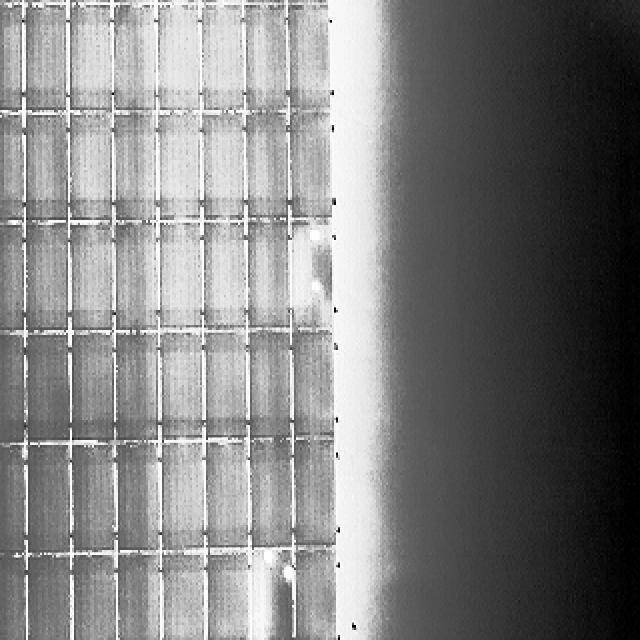Hotspots: (301, 221, 328, 248), (256, 549, 276, 565), (282, 565, 297, 585), (309, 276, 322, 294)
PV-modules: (198, 6, 247, 116), (69, 443, 117, 554), (110, 330, 158, 440), (111, 443, 158, 555), (162, 441, 208, 554), (28, 332, 75, 442), (26, 444, 73, 554), (159, 332, 206, 442), (200, 115, 246, 224), (202, 441, 248, 550), (246, 440, 291, 551), (25, 7, 72, 113), (68, 224, 114, 332), (112, 116, 158, 224), (203, 334, 248, 444), (68, 116, 113, 226), (203, 222, 248, 332), (67, 6, 113, 113), (155, 111, 200, 220), (25, 224, 70, 333), (156, 223, 201, 332), (241, 8, 286, 116), (115, 224, 160, 332), (28, 117, 72, 227), (244, 116, 288, 226), (246, 328, 290, 438), (243, 218, 287, 328), (295, 328, 339, 437), (288, 222, 332, 331), (70, 336, 114, 444), (158, 9, 202, 116), (287, 114, 330, 223), (292, 441, 334, 551), (113, 7, 157, 112), (288, 548, 338, 639), (286, 7, 329, 112), (202, 555, 249, 640), (162, 556, 208, 640), (68, 557, 114, 640), (248, 552, 290, 640), (113, 557, 157, 640), (30, 558, 74, 640), (0, 443, 26, 555), (0, 115, 26, 225), (0, 225, 26, 333), (0, 332, 24, 440), (0, 7, 22, 115), (0, 557, 26, 640), (284, 0, 326, 8), (110, 0, 156, 5), (242, 0, 286, 5), (0, 0, 22, 5), (152, 0, 198, 2), (24, 0, 70, 2), (196, 0, 242, 2), (64, 0, 110, 2)
